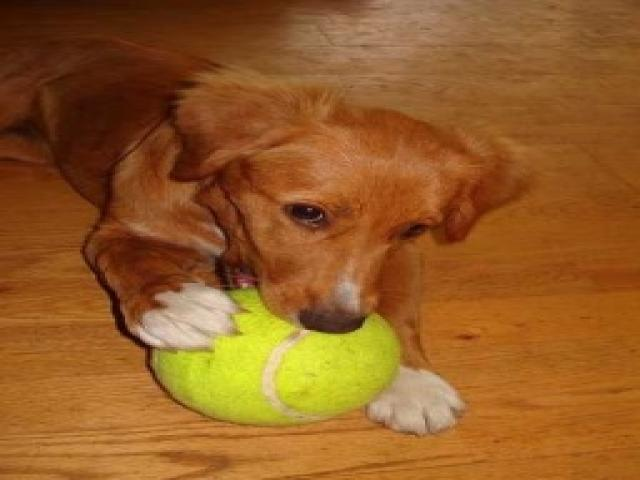tennis-ball: (148, 295, 400, 429)
